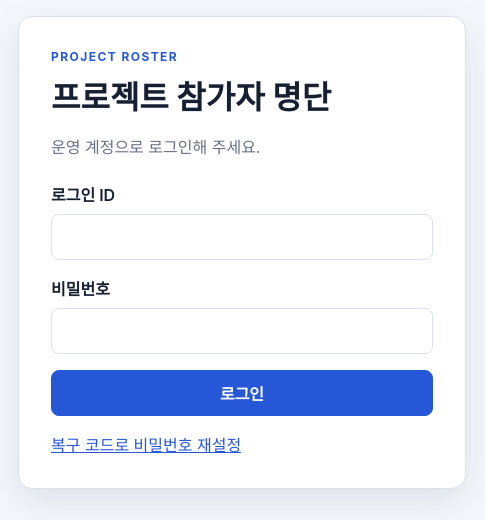
shows pending feedback and prevents duplicate login submission
This screenshot has width=485, height=520.
Type "operator" into the field labelled "로그인 ID" at (242, 236), box [51, 214, 433, 260]
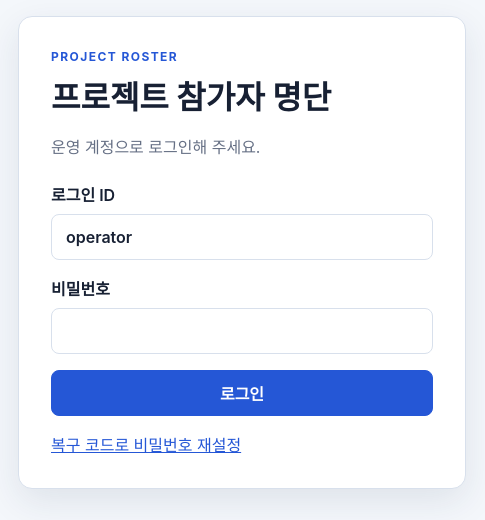
Type "password-1234" into the password field labelled "비밀번호" at (242, 330), box [51, 308, 433, 354]
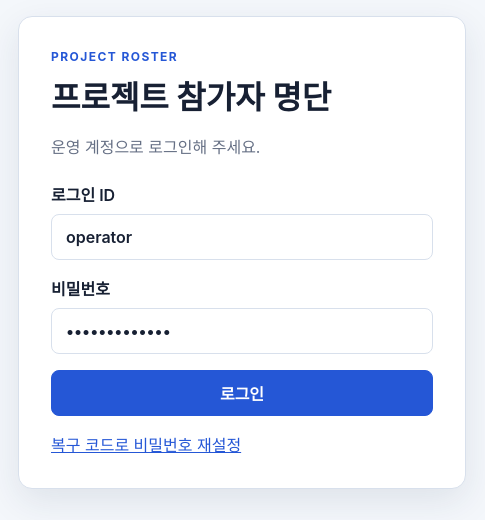
Click the button "로그인" at (242, 392), box [51, 370, 433, 416]
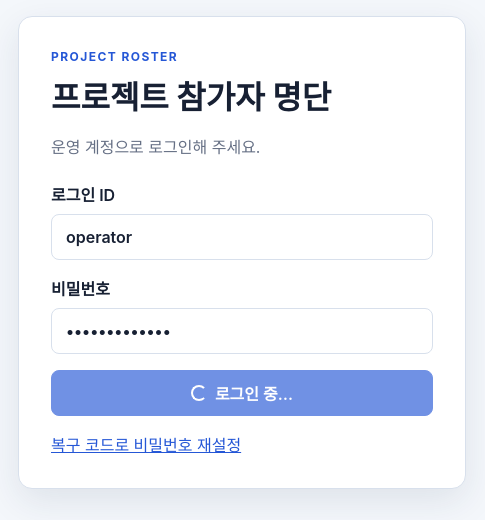
Result: the button "로그인 중…" is disabled
Click the button "로그인 중…" at (242, 392), box [51, 370, 433, 416]
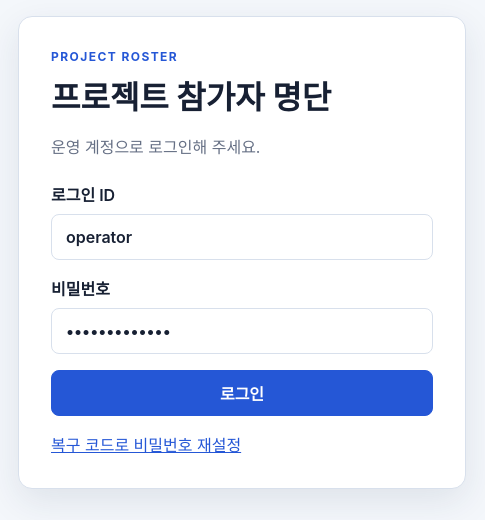
Result: the button "로그인" is enabled at [51, 370, 433, 416]
